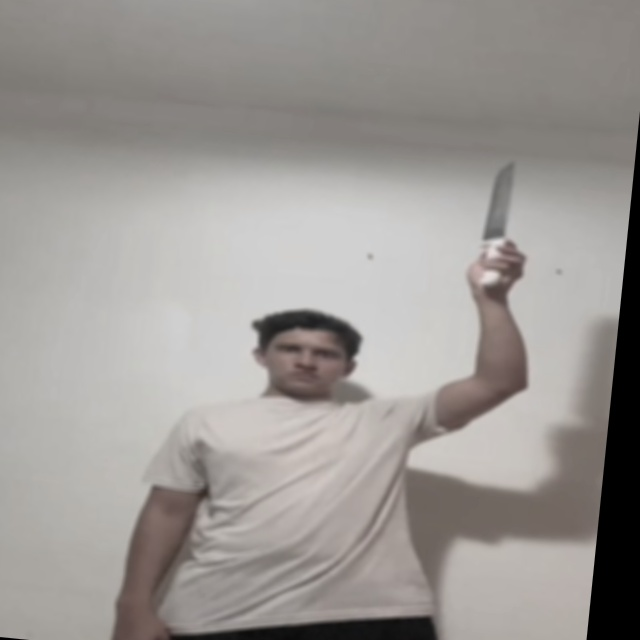Sharp-Object: (483, 159, 519, 237)
